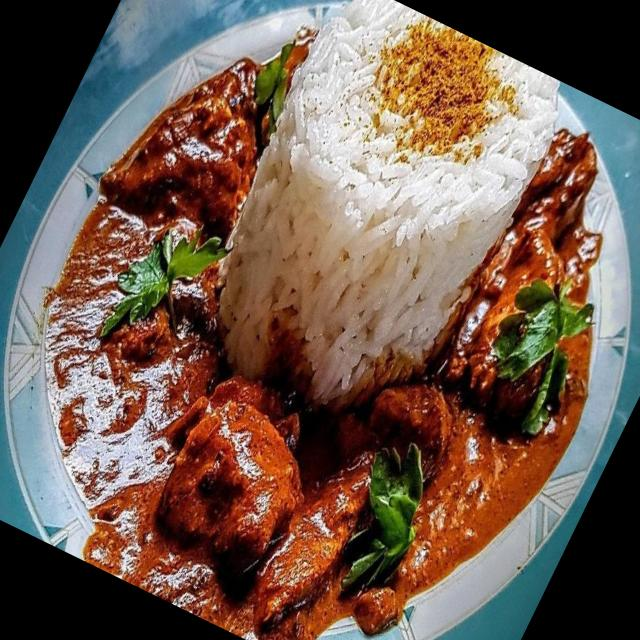chicken: (310, 158, 640, 640), (7, 8, 300, 480), (5, 281, 364, 604)
rice: (181, 0, 557, 430)
